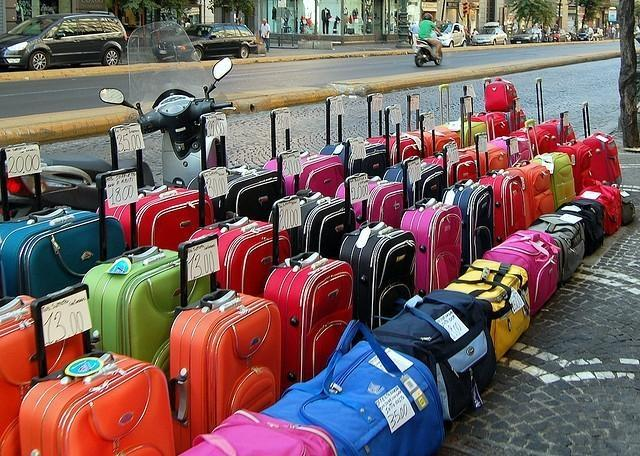car: (1, 10, 128, 72), (152, 24, 258, 62), (435, 23, 466, 48), (472, 28, 508, 46), (544, 26, 572, 44), (510, 28, 540, 44), (576, 27, 595, 41), (594, 28, 604, 39)
motorcycle: (98, 58, 234, 194), (416, 38, 444, 66)
